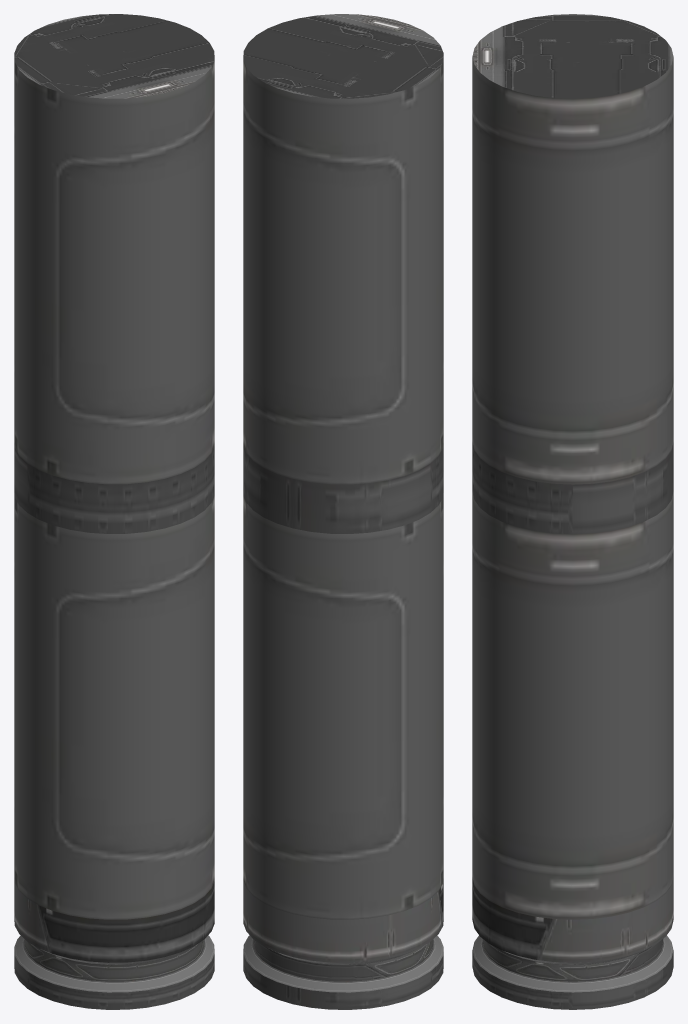
The model's file is column-round.glb.
The picture shows the model from 3 angles, left to right: view 1: azimuth 30°, elevation 25°; view 2: azimuth 150°, elevation 25°; view 3: azimuth 270°, elevation 25°; orthographic projection.
Parts seen in each view (by area): view 1: Column_Round; view 2: Column_Round; view 3: Column_Round.
Part boxes in pixels (x1=…): Column_Round: x1=14, y1=14, x2=214, y2=1009; Column_Round: x1=243, y1=14, x2=443, y2=1009; Column_Round: x1=472, y1=14, x2=673, y2=1009.
Bounding box in the file's own units: 1 × 5 × 1.
Materials: 2 (2 with a texture image).
